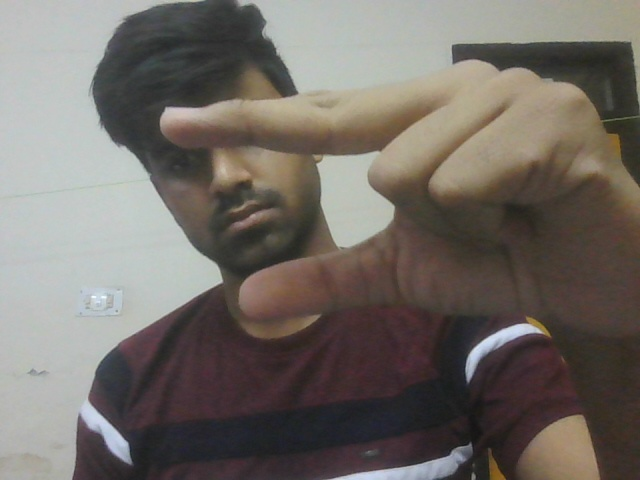no: (147, 53, 640, 357)
